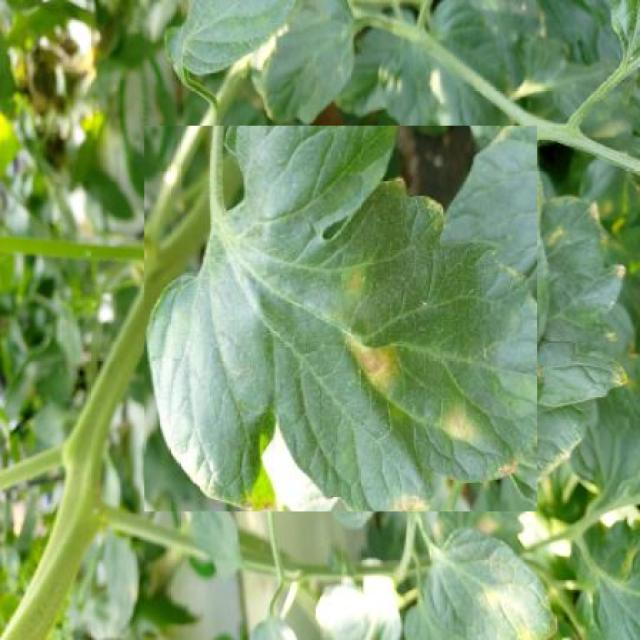Leaf Mold: (144, 127, 537, 512)
